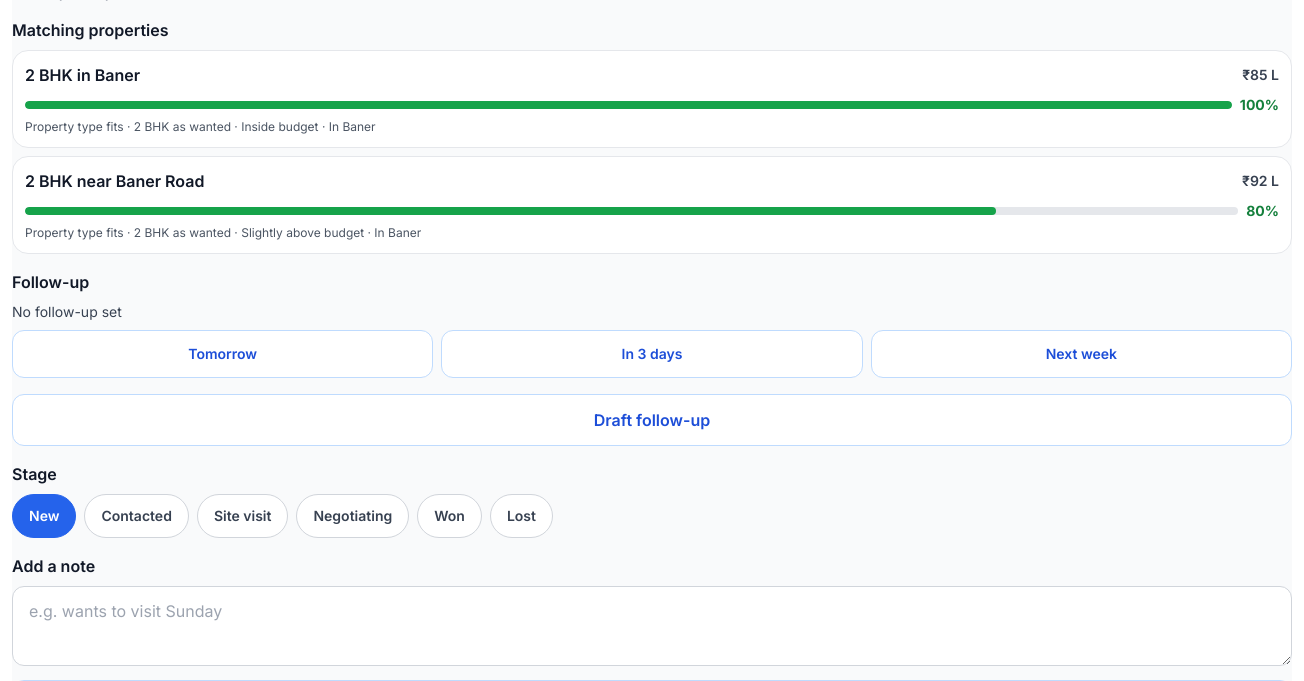
Scenario: LeadDetailView › quick follow-up buttons PATCH follow_up_at
(page scrolled)
Click the button "Tomorrow" at (223,354), box [12,330,433,378]
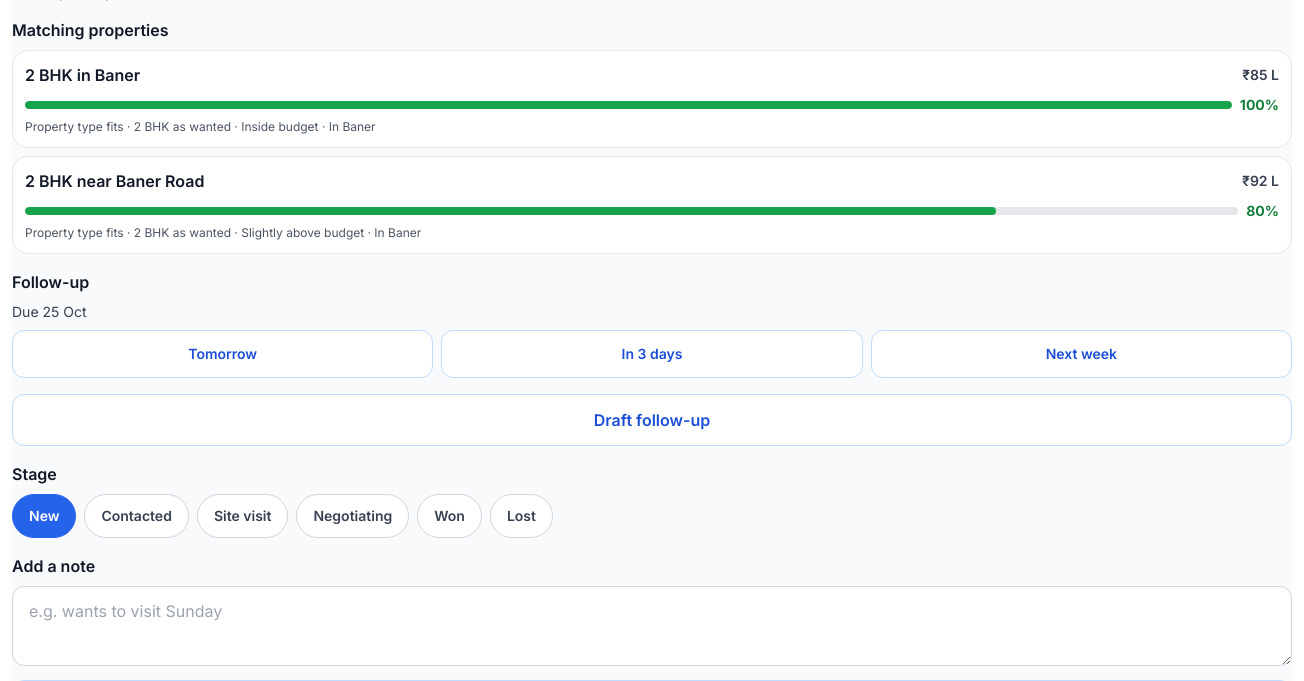
Check: the text with test id "followup-line" shows "Due", box [12,303,86,320]
